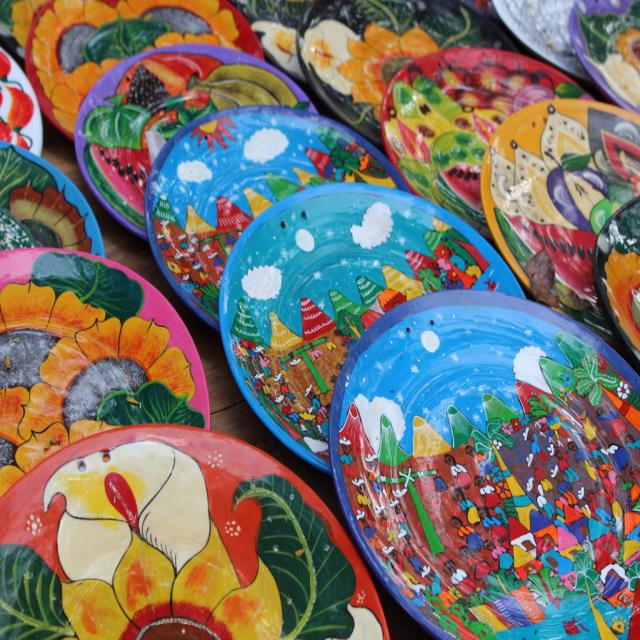non-organic waste: (323, 279, 640, 637), (206, 169, 544, 493), (152, 90, 377, 319)
